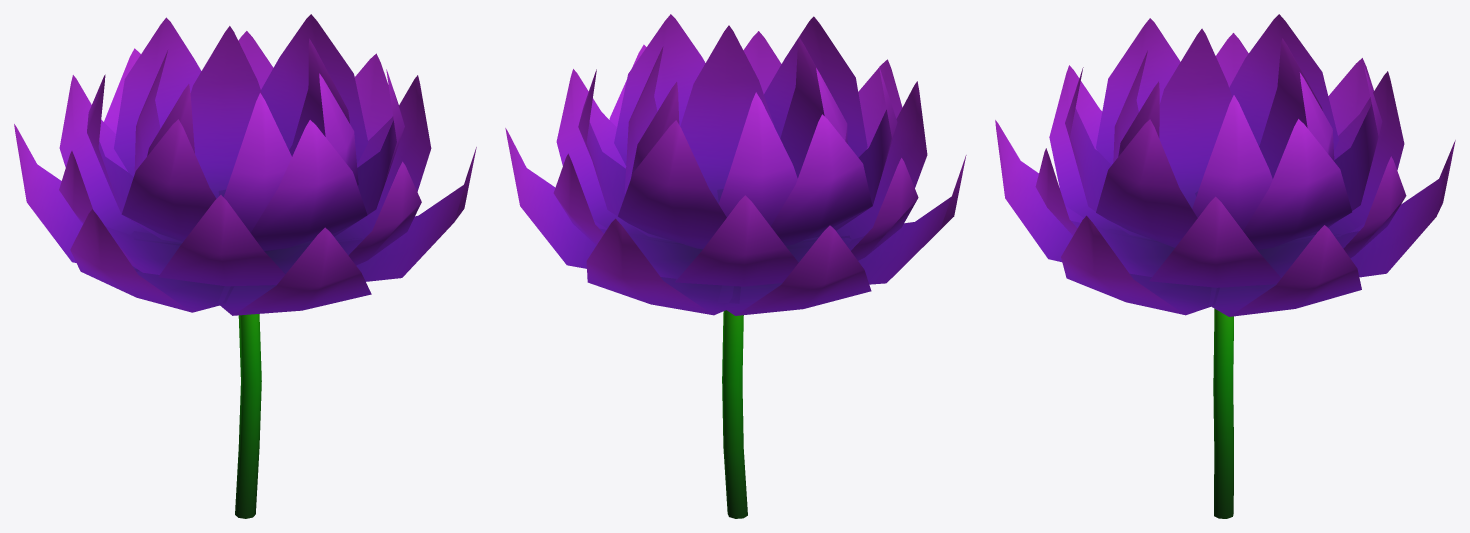
3 renders of one model, left to right at view 1: azimuth 30°, elevation 25°; view 2: azimuth 150°, elevation 25°; view 3: azimuth 270°, elevation 25°, orthographic.
Visible parts, largest first — view 1: Circle_001; view 2: Circle_001; view 3: Circle_001.
Boxes of the visible parts, x1,y1,x2,y2 form: Circle_001: [14, 14, 476, 518]; Circle_001: [505, 14, 966, 518]; Circle_001: [995, 14, 1455, 518].
Bounding box in the file's own units: 39.18 × 45.41 × 41.77.
